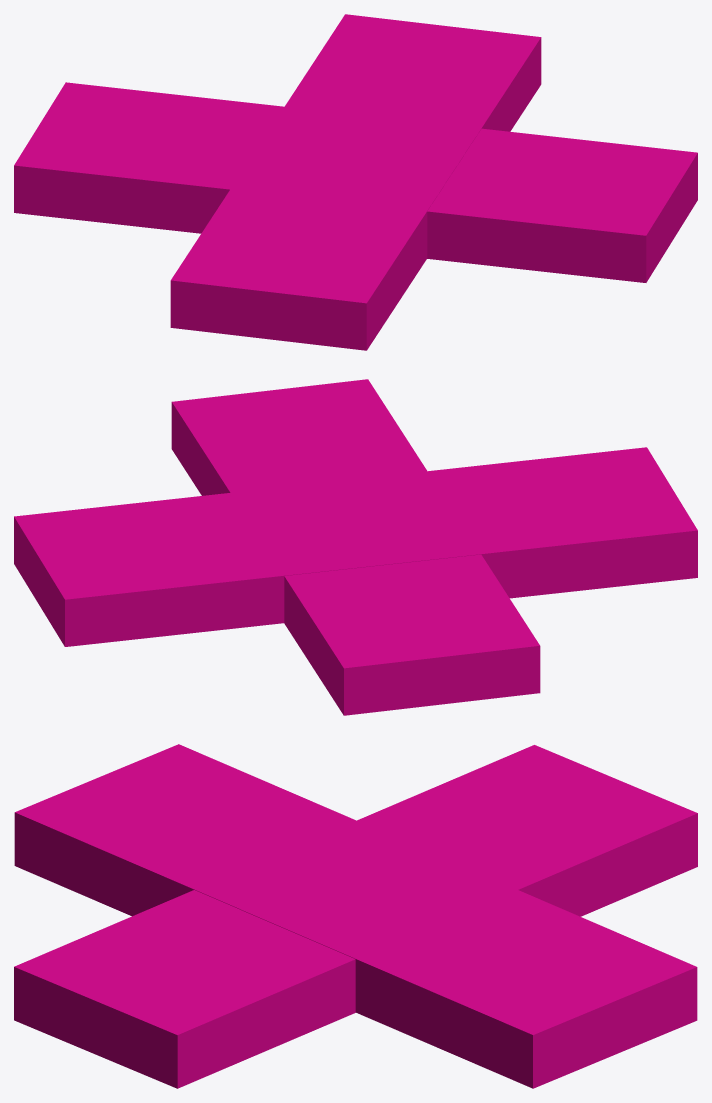
The model's file is pieza_x.glb.
3 renders of one model, top to bottom at view 1: azimuth 30°, elevation 25°; view 2: azimuth 150°, elevation 25°; view 3: azimuth 270°, elevation 25°, orthographic. The views are drawn at different scales.
Size of the model in its own units: 1 by 0.0864 by 0.9932.
